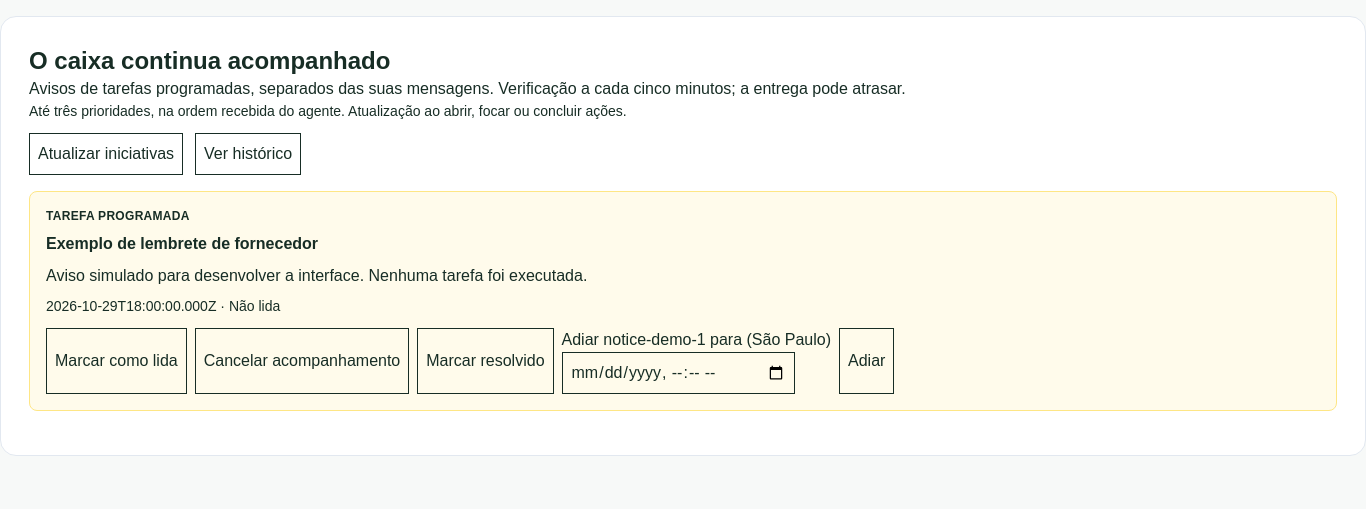
T20 TASK-03 ação Cancelar acompanhamento pede rechecagem e não esconde alerta por suposição
Expected: the heading "Exemplo de lembrete de fornecedor" is shown, [46,235,318,252]
Click the button "Cancelar acompanhamento".
click(302, 361)  # box [195,328,409,394]
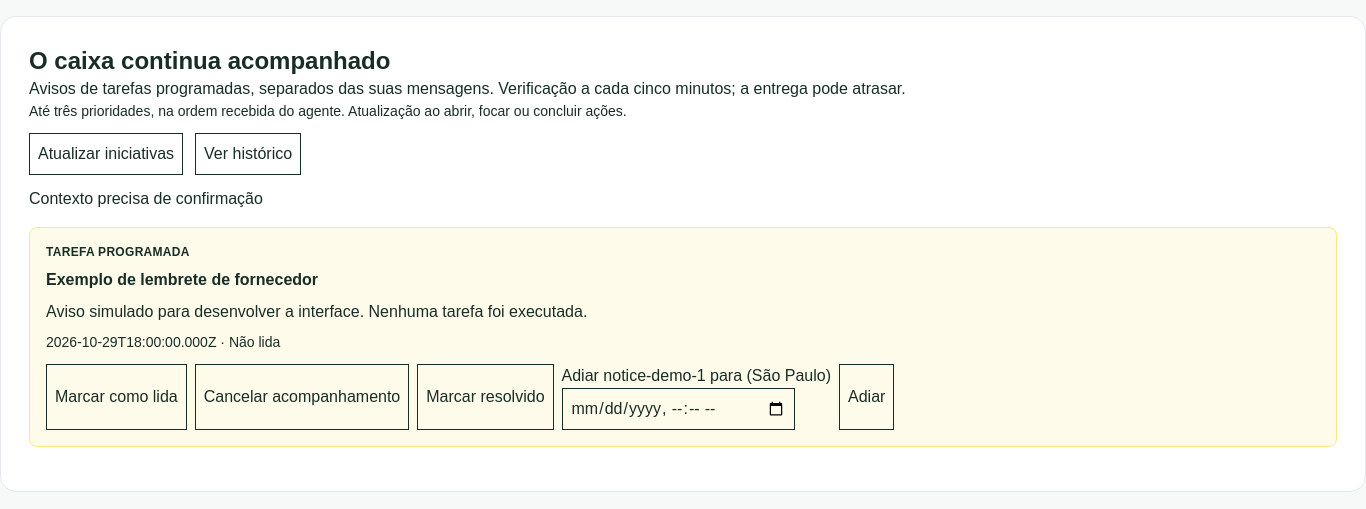
Expected: the heading "Exemplo de lembrete de fornecedor" is shown, [46,271,318,288]
Expected: the text "Contexto precisa de confirmação" is shown, [29,190,263,207]
